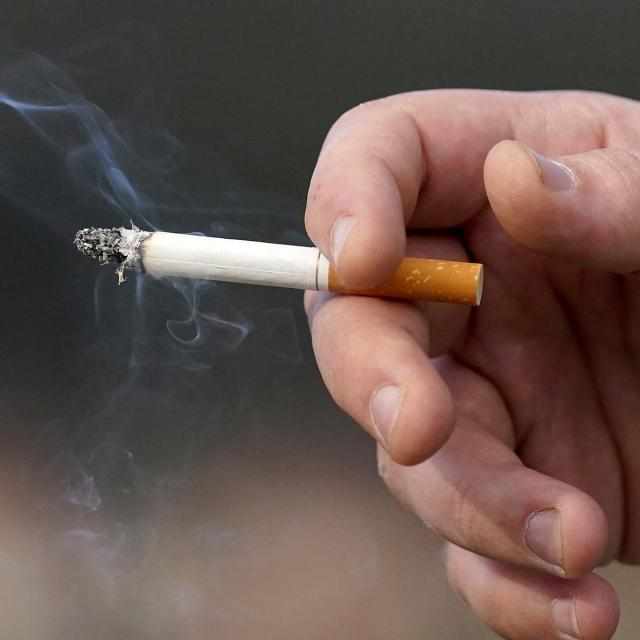smoke: (73, 227, 490, 311)
